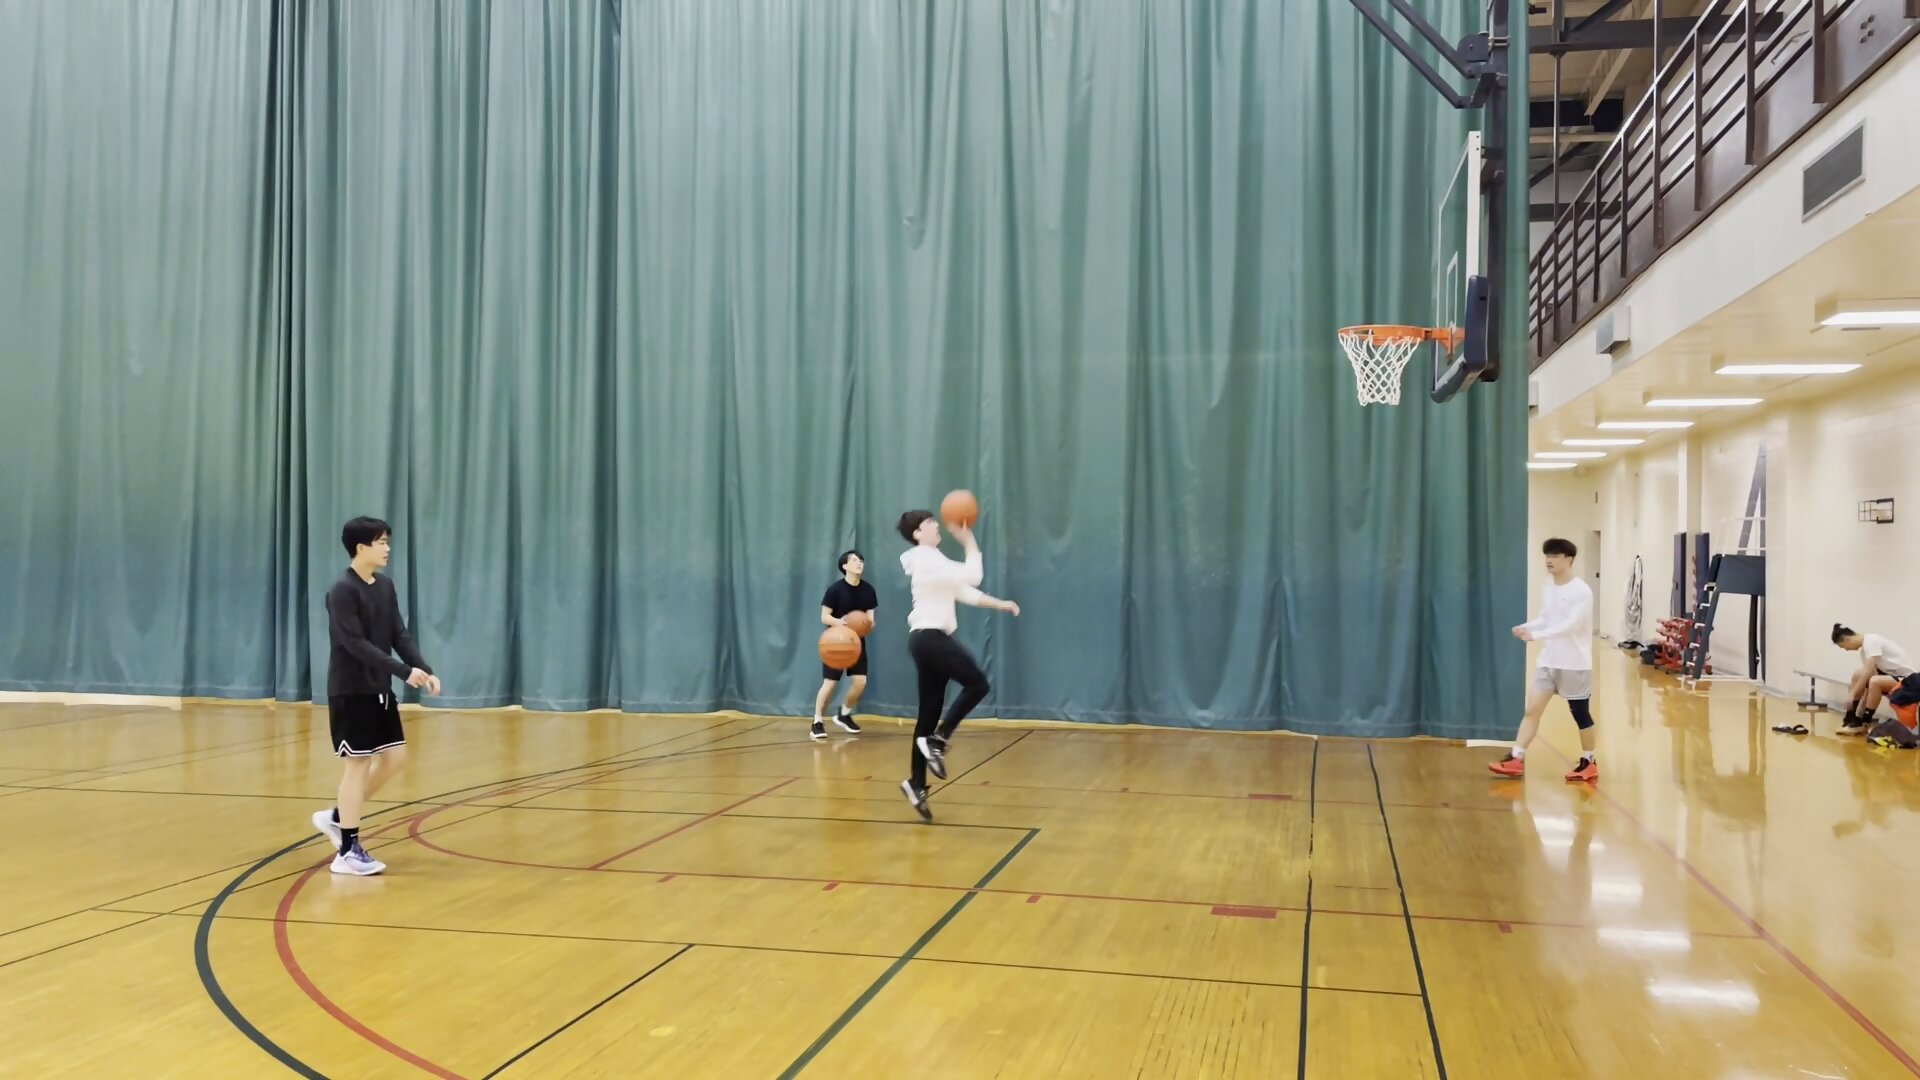ball: (816, 622, 860, 674), (941, 489, 981, 522), (843, 611, 870, 636)
net: (1349, 378, 1408, 414)
player: (308, 506, 436, 883), (893, 505, 1016, 830), (1493, 536, 1603, 788), (816, 548, 882, 743), (1824, 622, 1920, 738)
rim: (1333, 319, 1431, 349)
